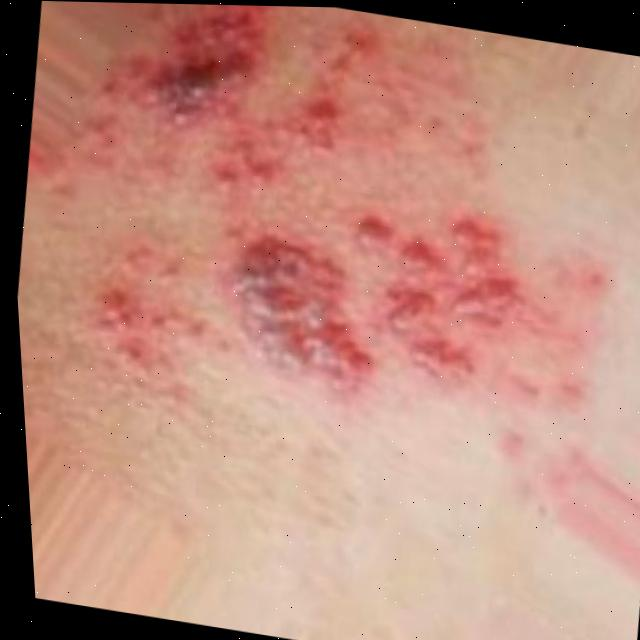Shingles: (79, 2, 600, 444)
